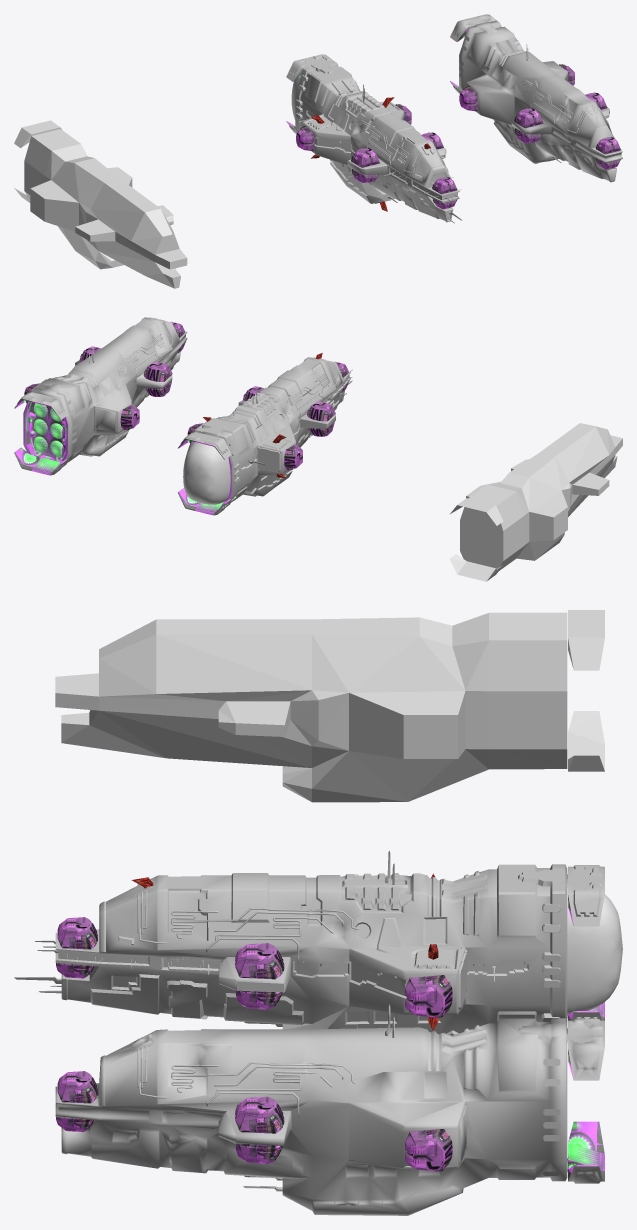
The model's file is bst_heavycruiser.dae.
The picture shows the model from 3 angles, top to bottom: view 1: azimuth 30°, elevation 25°; view 2: azimuth 150°, elevation 25°; view 3: azimuth 270°, elevation 25°; orthographic projection. The views are drawn at different scales.
Visible parts, largest first — view 1: COL[Root], MULT[HeavyCruiser]_LOD[0], MULT[HeavyCruiser]_LOD[1], MULT[HeavyCruiserGun.1]_LOD[1], MULT[HeavyCruiserGun.1]_LOD[0], MULT[HeavyCruiserGun.5]_LOD[0], MULT[HeavyCruiserGun.5]_LOD[1]; view 2: COL[Root], MULT[HeavyCruiser]_LOD[1], MULT[HeavyCruiser]_LOD[0], GLOW[EngineGlow3]_LOD[0], MULT[HeavyCruiserGun.1]_LOD[1], MULT[HeavyCruiserGun.1]_LOD[0], MULT[HeavyCruiserGun.5]_LOD[1], MULT[HeavyCruiserGun.5]_LOD[0]; view 3: COL[Root], MULT[HeavyCruiser]_LOD[1], MULT[HeavyCruiser]_LOD[0], GLOW[EngineGlow3]_LOD[0], MULT[HeavyCruiserGun.4]_LOD[0], MULT[HeavyCruiserGun.4]_LOD[1], MULT[HeavyCruiserGun.2]_LOD[1], MULT[HeavyCruiserGun.2]_LOD[0], MULT[HeavyCruiserIon.0]_LOD[0], MULT[HeavyCruiserIon.0]_LOD[1].
Part boxes in pixels (left/top/right/bottom): COL[Root]: left=14, top=120, right=187, bottom=288; MULT[HeavyCruiser]_LOD[0]: left=286, top=54, right=461, bottom=223; MULT[HeavyCruiser]_LOD[1]: left=450, top=14, right=622, bottom=182; MULT[HeavyCruiserGun.1]_LOD[1]: left=514, top=108, right=543, bottom=128; MULT[HeavyCruiserGun.1]_LOD[0]: left=351, top=148, right=379, bottom=167; MULT[HeavyCruiserGun.5]_LOD[0]: left=296, top=126, right=314, bottom=151; MULT[HeavyCruiserGun.5]_LOD[1]: left=459, top=86, right=477, bottom=111; COL[Root]: left=449, top=423, right=622, bottom=581; MULT[HeavyCruiser]_LOD[1]: left=14, top=317, right=187, bottom=475; MULT[HeavyCruiser]_LOD[0]: left=177, top=357, right=352, bottom=515; GLOW[EngineGlow3]_LOD[0]: left=183, top=441, right=230, bottom=504; MULT[HeavyCruiserGun.1]_LOD[1]: left=143, top=362, right=172, bottom=381; MULT[HeavyCruiserGun.1]_LOD[0]: left=307, top=401, right=335, bottom=421; MULT[HeavyCruiserGun.5]_LOD[1]: left=120, top=404, right=139, bottom=430; MULT[HeavyCruiserGun.5]_LOD[0]: left=284, top=444, right=302, bottom=469; COL[Root]: left=55, top=610, right=604, bottom=802; MULT[HeavyCruiser]_LOD[1]: left=55, top=1004, right=604, bottom=1215; MULT[HeavyCruiser]_LOD[0]: left=14, top=850, right=604, bottom=1035; GLOW[EngineGlow3]_LOD[0]: left=567, top=880, right=622, bottom=1015; MULT[HeavyCruiserGun.4]_LOD[0]: left=405, top=975, right=452, bottom=1017; MULT[HeavyCruiserGun.4]_LOD[1]: left=405, top=1129, right=452, bottom=1171; MULT[HeavyCruiserGun.2]_LOD[1]: left=235, top=1096, right=284, bottom=1133; MULT[HeavyCruiserGun.2]_LOD[0]: left=235, top=943, right=284, bottom=979; MULT[HeavyCruiserIon.0]_LOD[0]: left=57, top=917, right=97, bottom=949; MULT[HeavyCruiserIon.0]_LOD[1]: left=57, top=1071, right=97, bottom=1103.
Size of what is drawn, in the model's own units: 1065 by 213 by 546.
